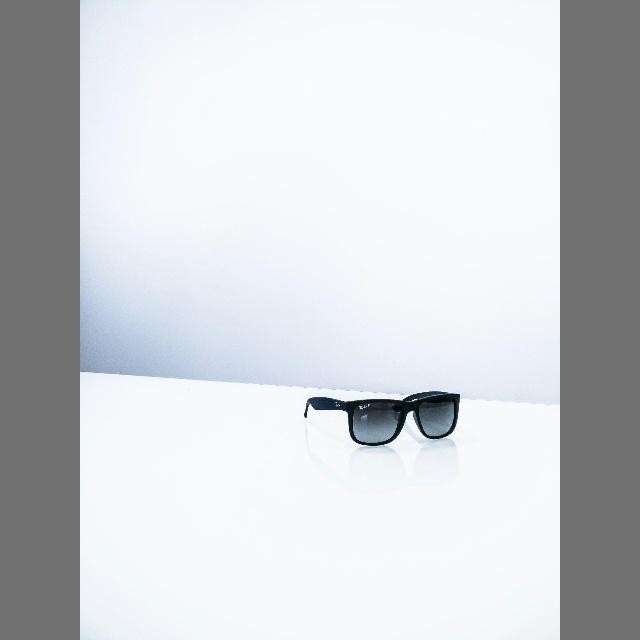Sunglasses: (301, 384, 464, 460)
